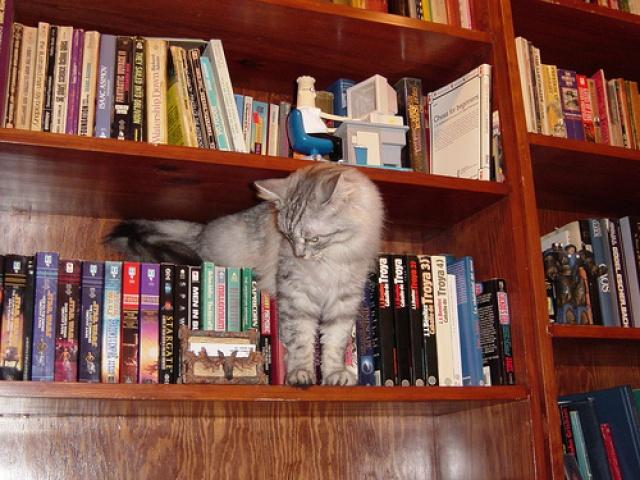Rak: (0, 0, 541, 478), (502, 0, 639, 479)
